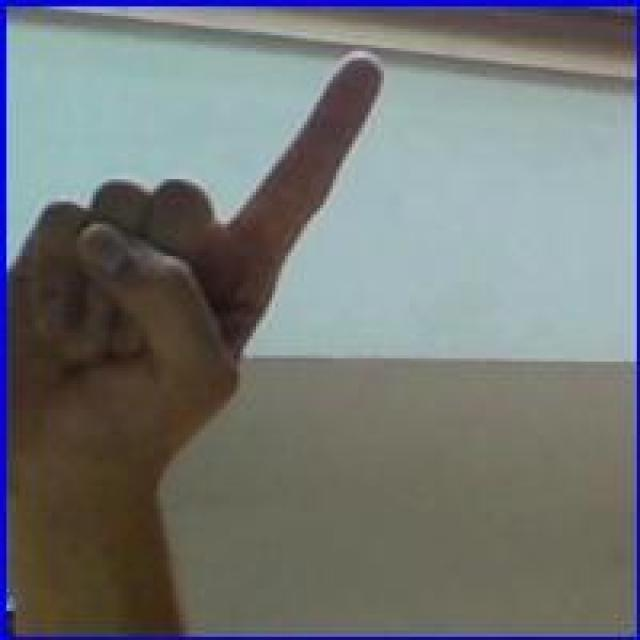Z: (7, 42, 390, 499)
